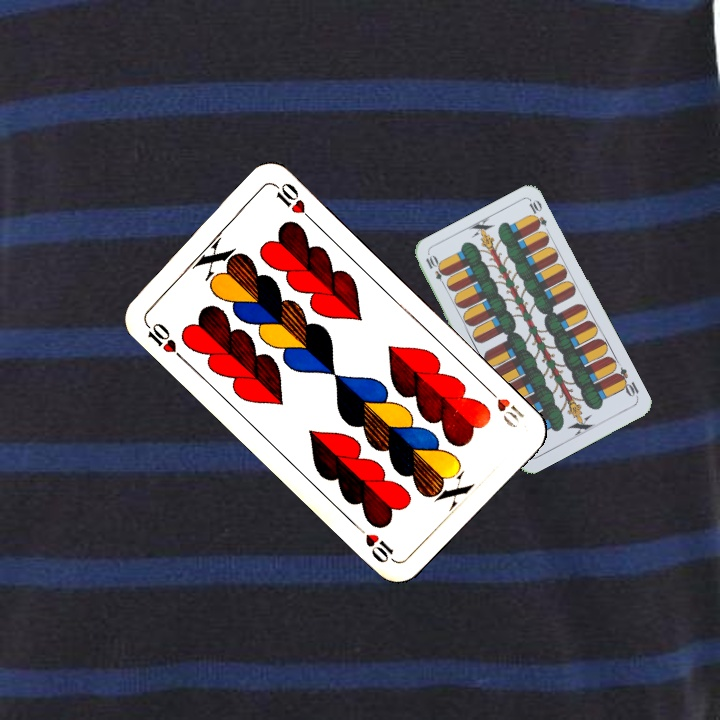E10: (611, 364, 641, 401), (421, 252, 450, 290)
H10: (481, 382, 527, 431), (140, 317, 187, 364)
